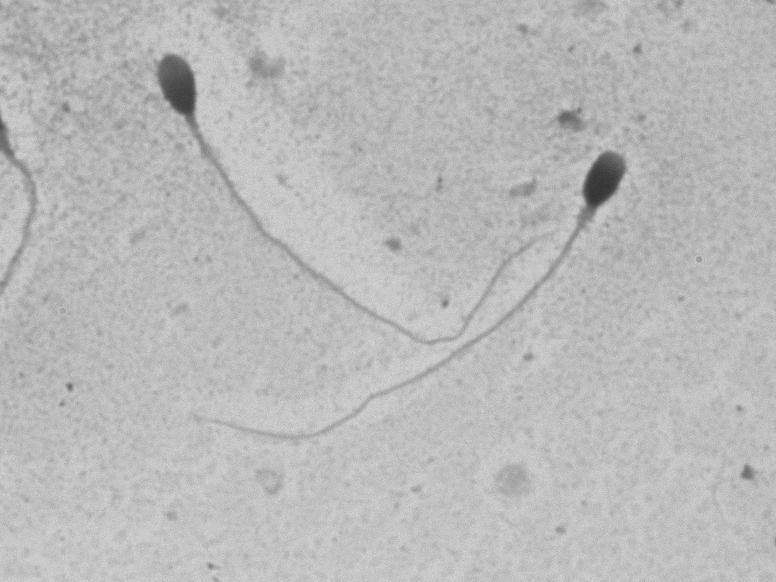Normal: (174, 132, 658, 459), (137, 35, 562, 351)
